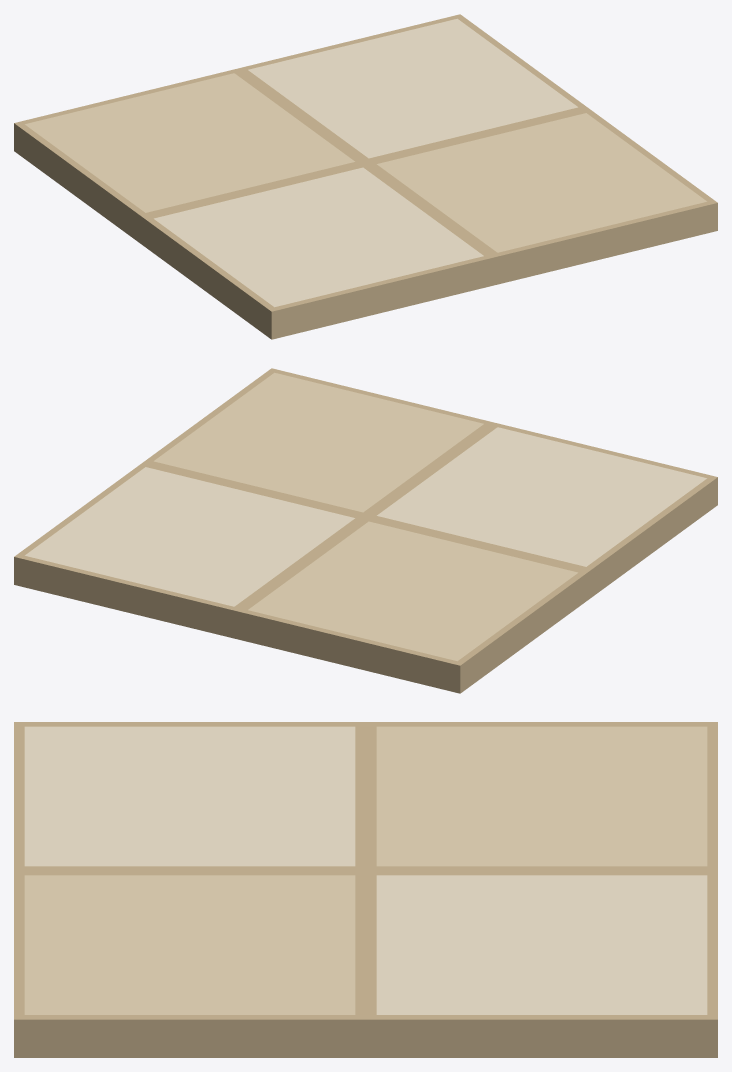
The model's file is paving_tile_c.glb.
3 views of the same model, one above another, from view 1: azimuth 30°, elevation 25°; view 2: azimuth 150°, elevation 25°; view 3: azimuth 270°, elevation 25° (orthographic). The views are drawn at different scales.
Parts seen in each view (by area): view 1: paving_tile_c; view 2: paving_tile_c; view 3: paving_tile_c.
Boxes of the visible parts, left/top/right/bottom form: paving_tile_c: left=14, top=14, right=717, bottom=339; paving_tile_c: left=14, top=368, right=717, bottom=693; paving_tile_c: left=14, top=722, right=717, bottom=1057.
Bounding box in the file's own units: 1 × 0.06 × 1.
